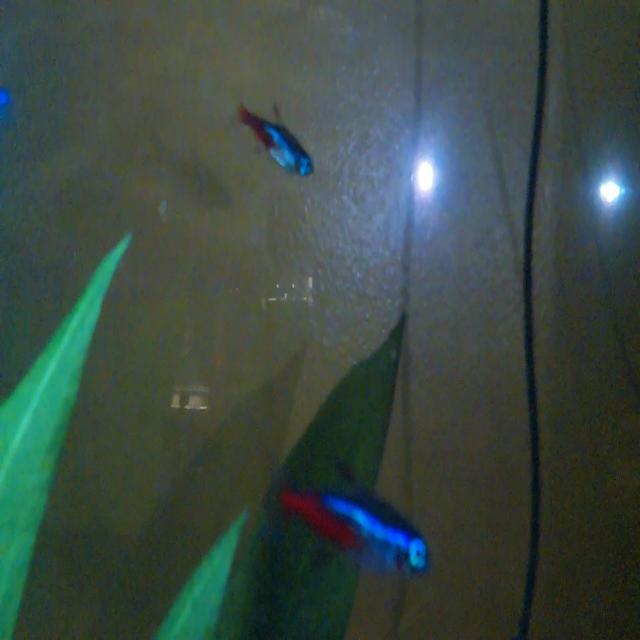fish: (270, 429, 442, 585), (230, 80, 320, 187)
